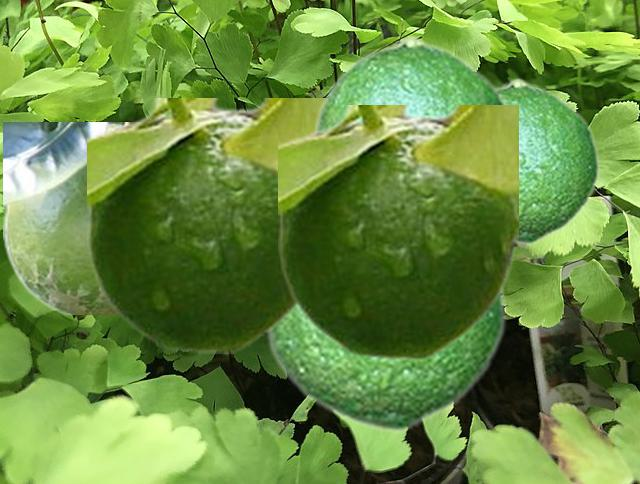dalandan: (278, 105, 517, 359), (87, 98, 322, 352), (262, 289, 506, 432), (3, 122, 122, 313), (311, 34, 511, 130), (496, 77, 599, 244)
